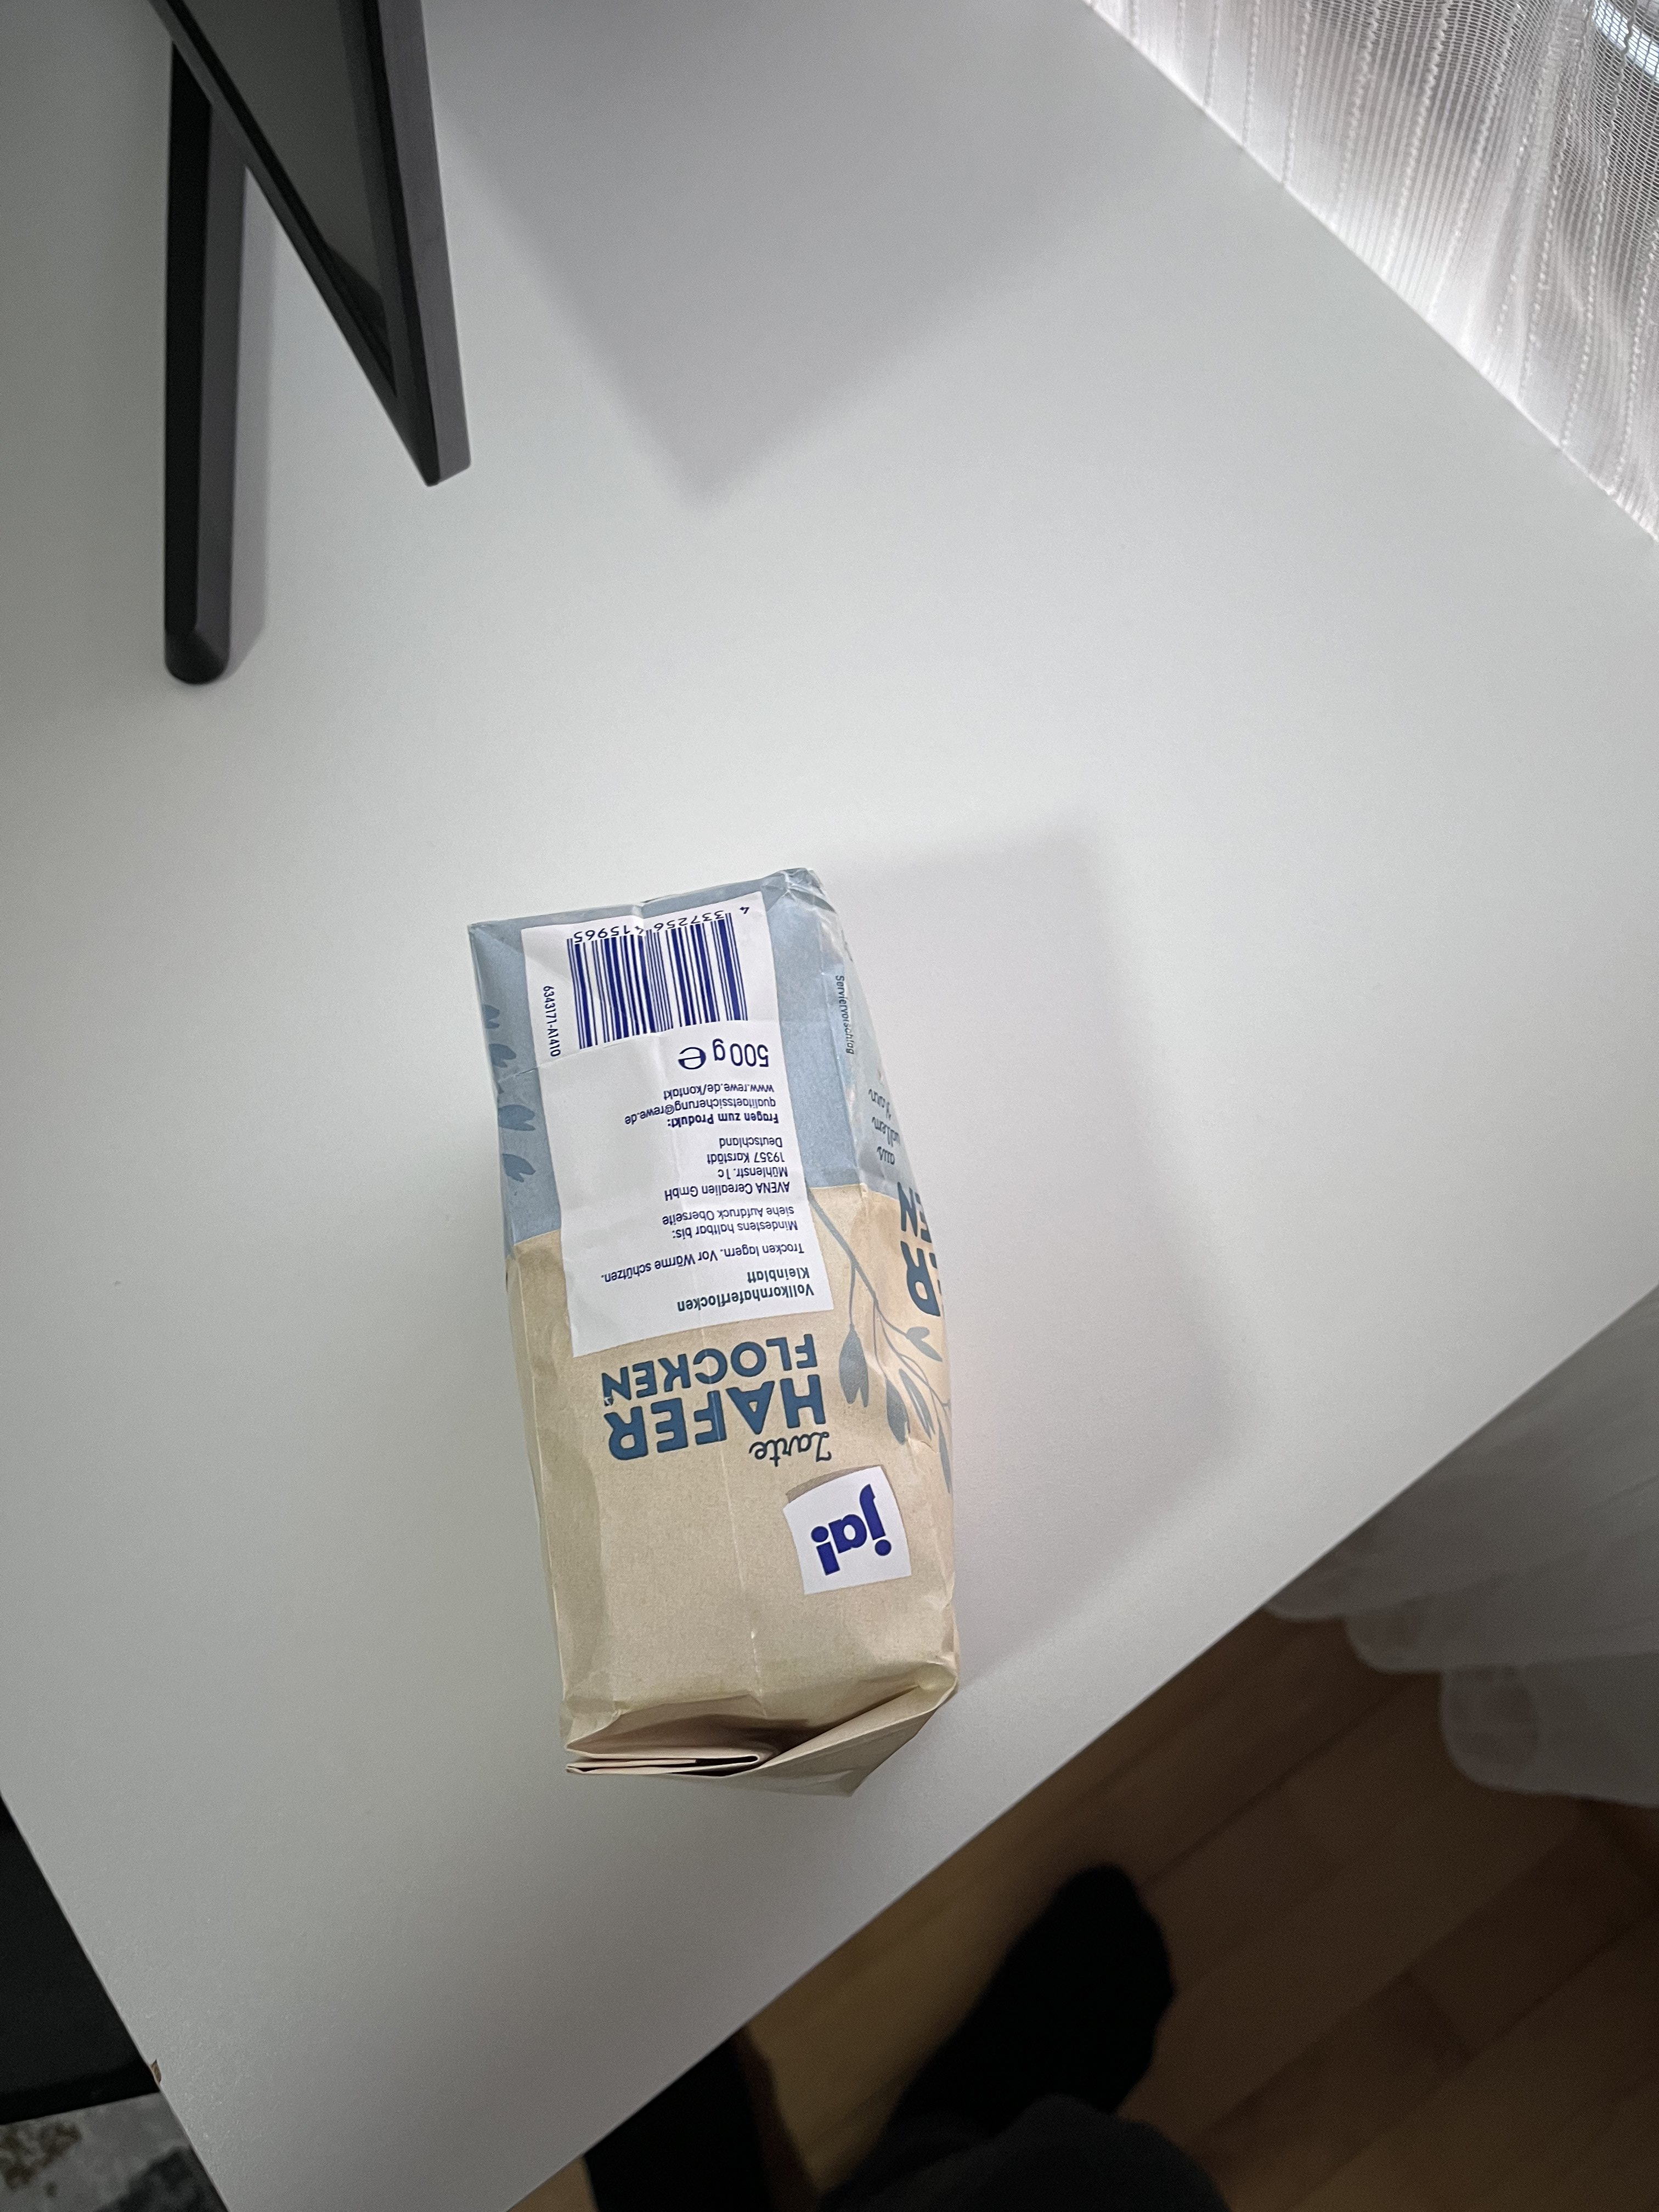haferflocken_ja: (469, 869, 969, 1796)
